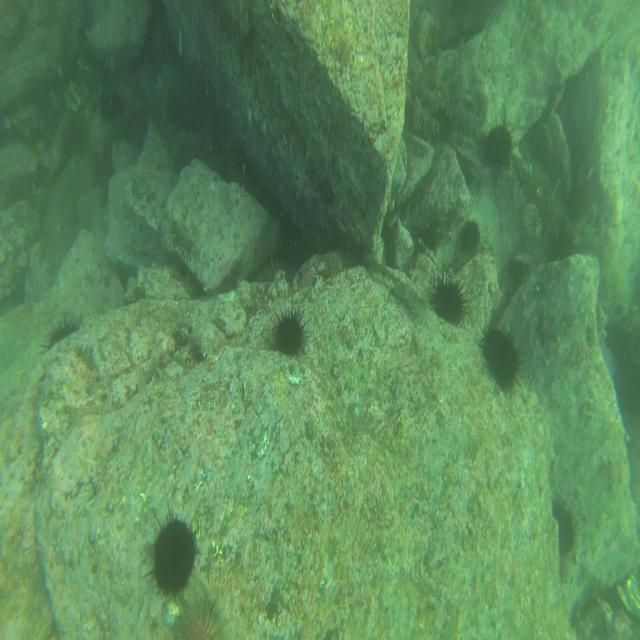echinus: (148, 514, 197, 590), (482, 319, 522, 392), (269, 304, 310, 358), (430, 274, 470, 327), (173, 601, 226, 637), (553, 502, 578, 562), (482, 124, 513, 169), (46, 318, 76, 352), (459, 220, 485, 257)
scallop: (161, 604, 183, 623)
